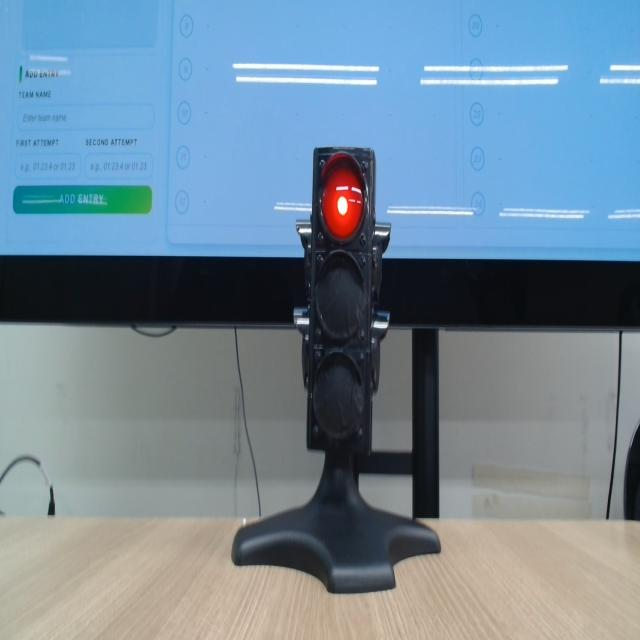red_light: (322, 155, 363, 241)
